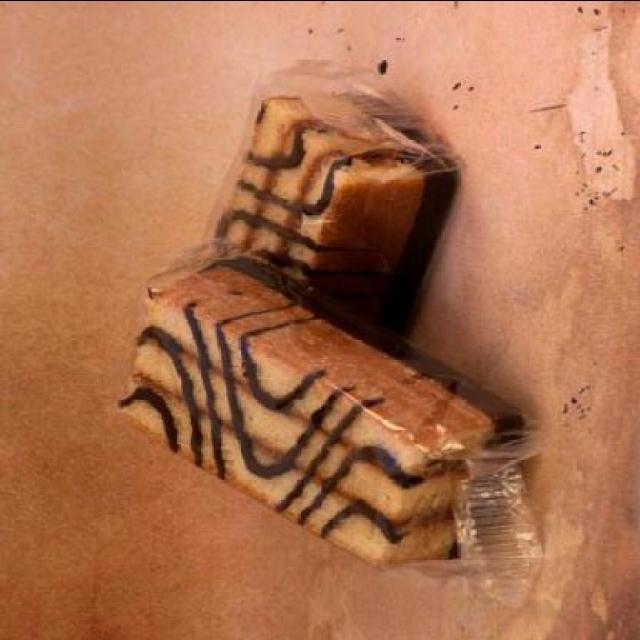Merendine packaged: (111, 256, 560, 568)
